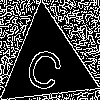C: (22, 37, 70, 94)
